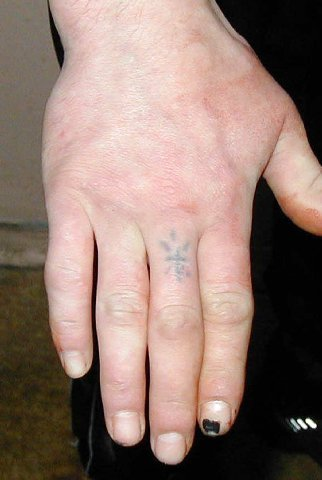tatu9_krest: (155, 226, 194, 292)
